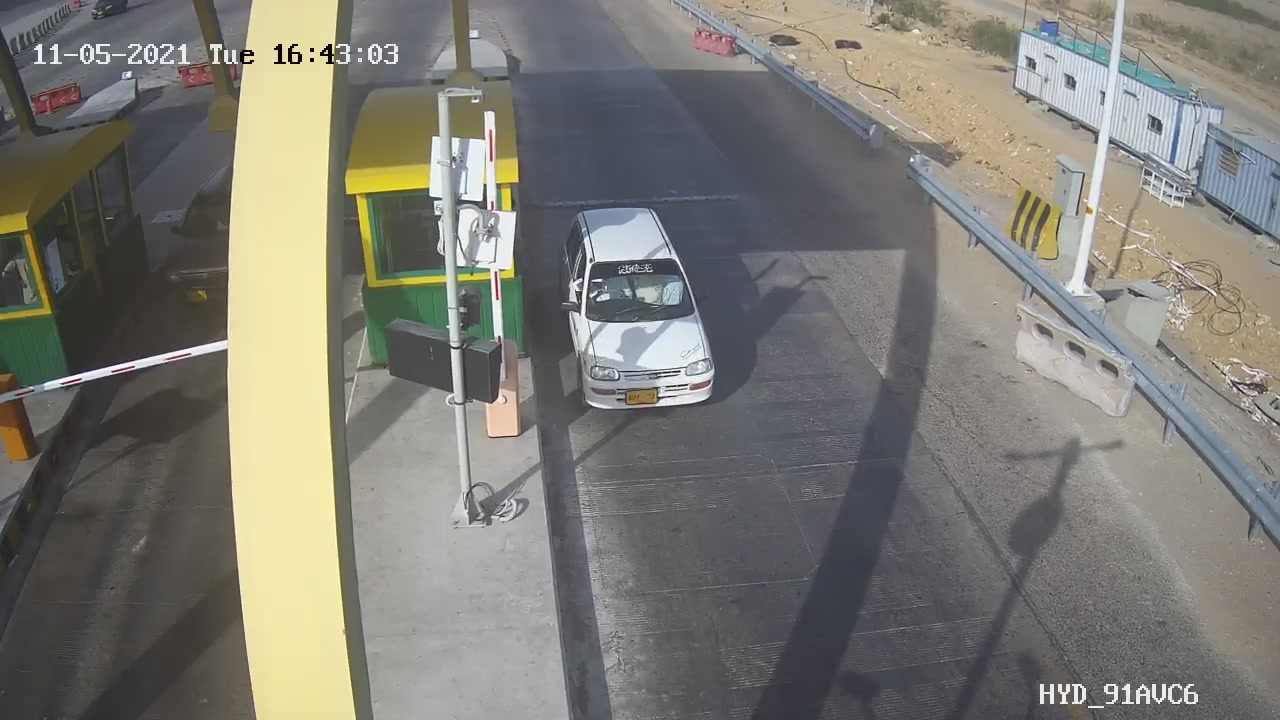F1: (542, 192, 735, 425)
